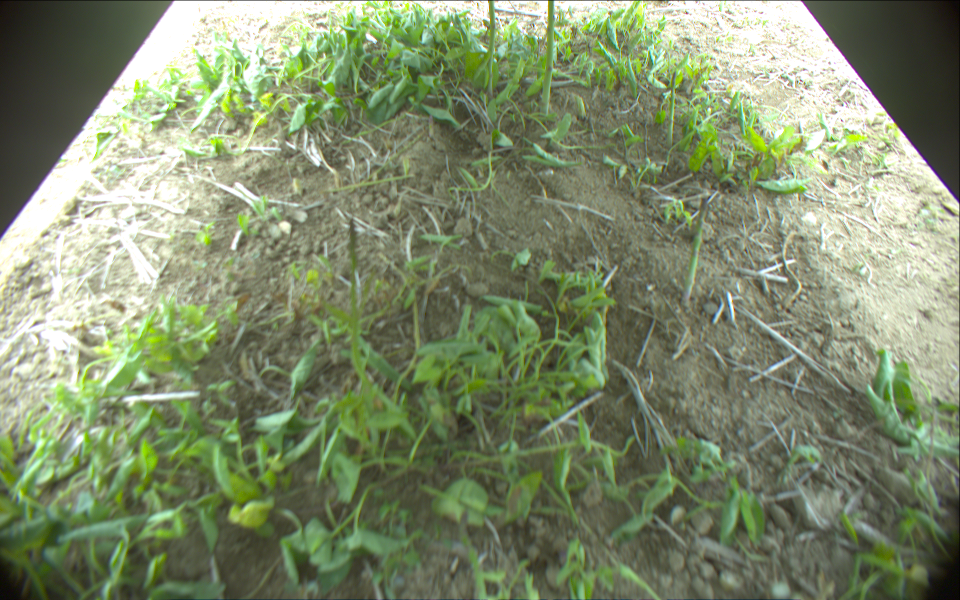aspa: (676, 195, 710, 303), (347, 217, 365, 393), (538, 1, 556, 117), (486, 1, 496, 104), (665, 69, 678, 148)
